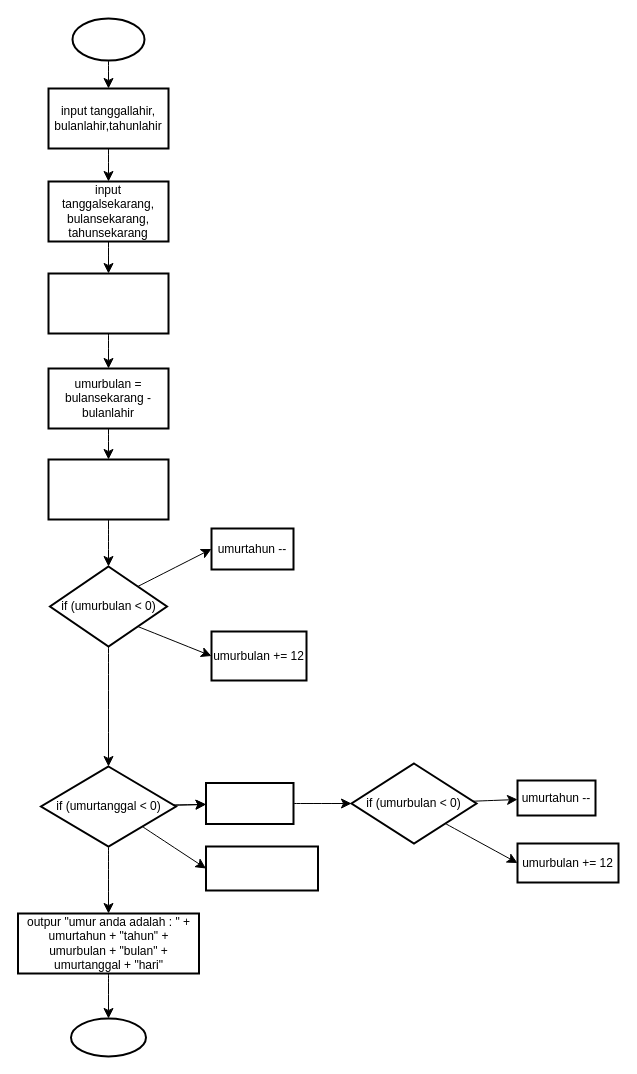
Some shapes in this 637 by 1074 pixel diagram are drawn without their labels. Here are the shapes that lost their labels. From the top down, the centre of each, then its label:
At (x=108, y=39): "start".
At (x=108, y=303): "umurtanggal = tanggalsekarang - tanggallahir".
At (x=108, y=489): "umurtahun = tahunsekarang - tahunlahir".
At (x=249, y=803): "umurbulan --".
At (x=261, y=868): "umurtanggal += 30".
At (x=108, y=1037): "end".
